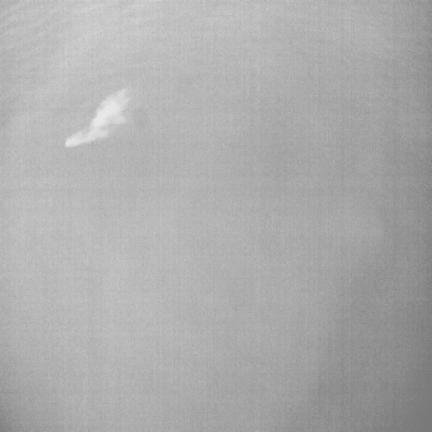flukeprints: (65, 89, 128, 147)
